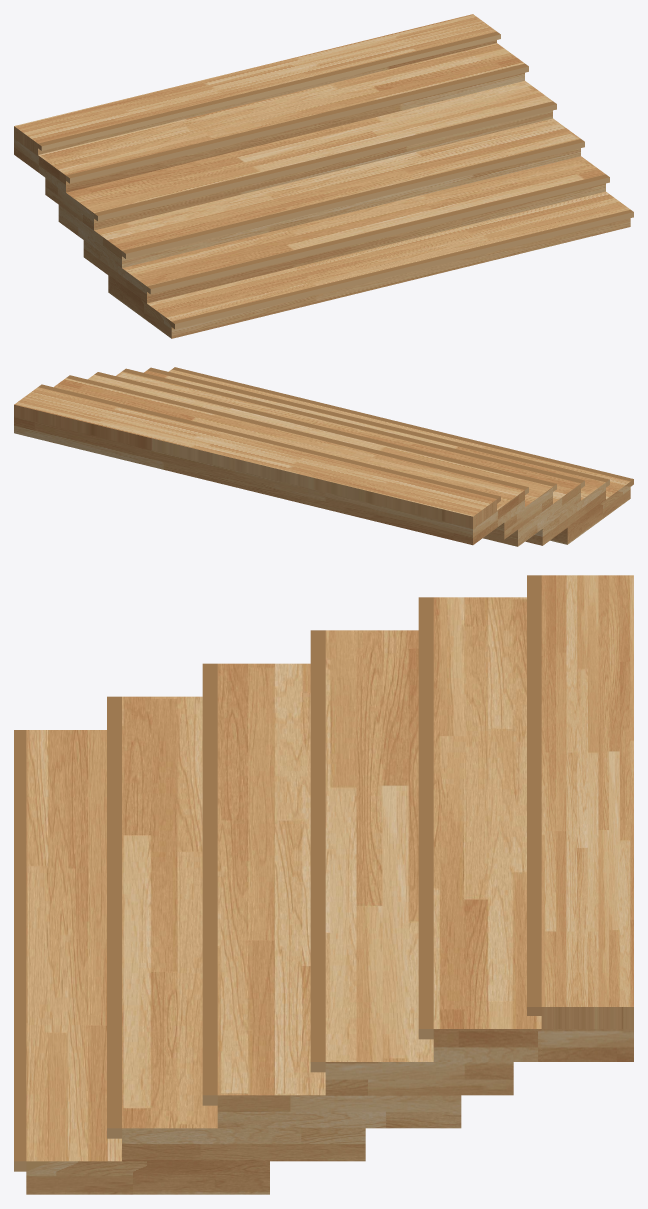
File: EscalerasNivel2.fbx
3 renders of one model, top to bottom at view 1: azimuth 30°, elevation 25°; view 2: azimuth 150°, elevation 25°; view 3: azimuth 270°, elevation 25°, orthographic. The views are drawn at different scales.
Visible parts, largest first — view 1: Cube.001; view 2: Cube.001; view 3: Cube.001.
Part boxes in pixels (x1,y1,x2,y2): Cube.001: (14, 14, 633, 338); Cube.001: (14, 367, 633, 546); Cube.001: (14, 575, 633, 1194).
Bounding box in the file's own units: 800 × 162 × 486.
Materials: 2 (2 with a texture image).
